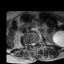CCS_normal: (32, 41, 34, 50)
LFS_stenosis: (35, 39, 37, 45)
LLS_normal: (34, 41, 36, 46)
RFS_stenosis: (28, 41, 30, 47)
RLS_normal: (30, 41, 32, 47)
